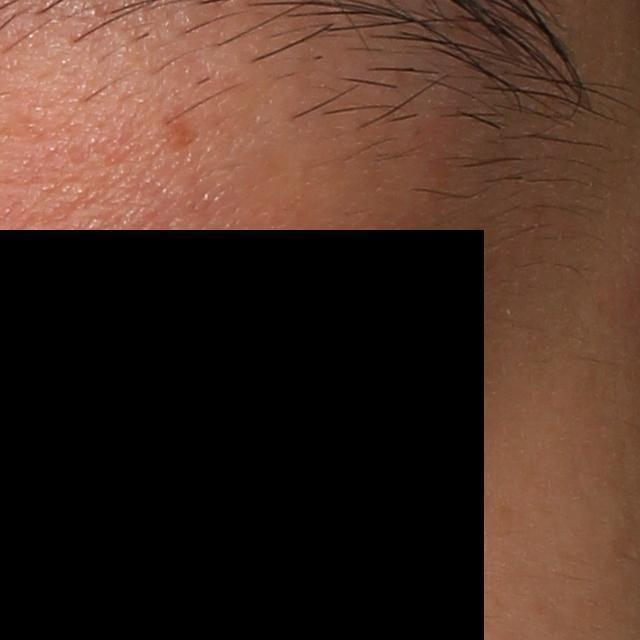melasma: (160, 103, 208, 159)
